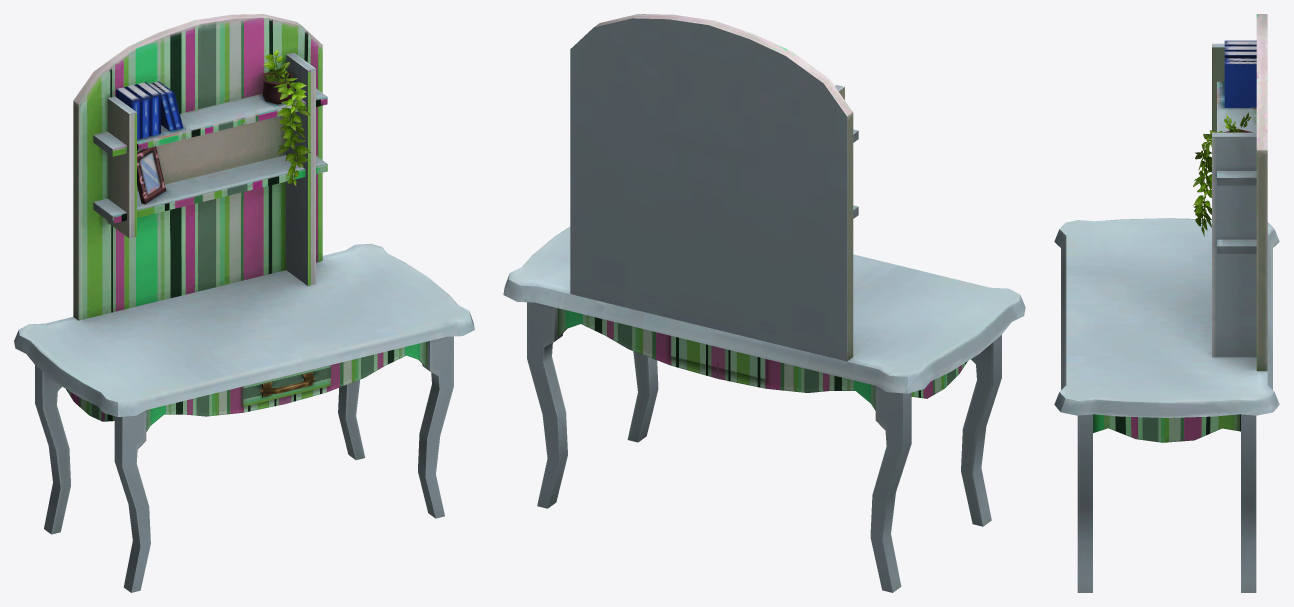
The model's file is furni_0200609_01.FBX.
3 renders of one model, left to right at view 1: azimuth 30°, elevation 25°; view 2: azimuth 150°, elevation 25°; view 3: azimuth 270°, elevation 25°, orthographic. The views are drawn at different scales.
Visible parts, largest first — view 1: furni_0200609_01; view 2: furni_0200609_01; view 3: furni_0200609_01.
Part boxes in pixels (left/top/right/bottom): furni_0200609_01: left=14, top=14, right=474, bottom=592; furni_0200609_01: left=503, top=14, right=1025, bottom=592; furni_0200609_01: left=1054, top=14, right=1279, bottom=592.
Bounding box in the file's own units: 159 × 187 × 80.07.
1 material, 1 textured.
